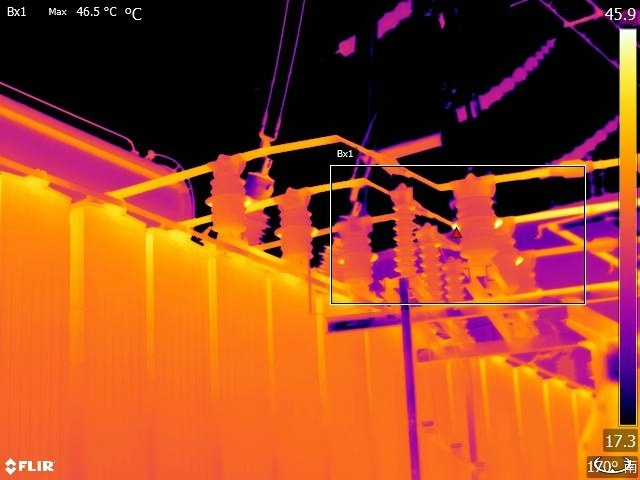insulator: (477, 36, 558, 105), (327, 1, 420, 53), (550, 107, 618, 169)
oil conservator: (1, 100, 193, 221)
post insulator: (336, 210, 388, 298), (208, 155, 255, 244), (271, 195, 320, 275), (451, 181, 497, 265), (386, 196, 418, 276), (489, 216, 520, 296), (509, 252, 550, 305), (416, 232, 441, 301), (443, 256, 465, 311)
transformer: (1, 155, 626, 480)
tube: (236, 160, 283, 238), (322, 195, 364, 276)
